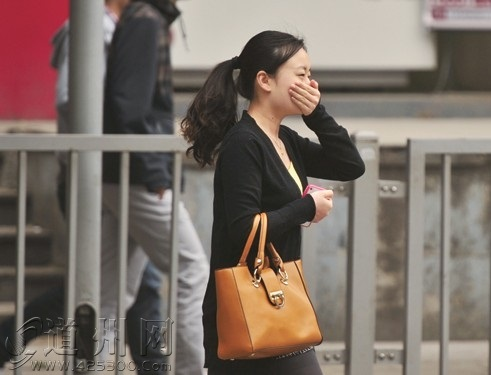face: (279, 50, 318, 114)
